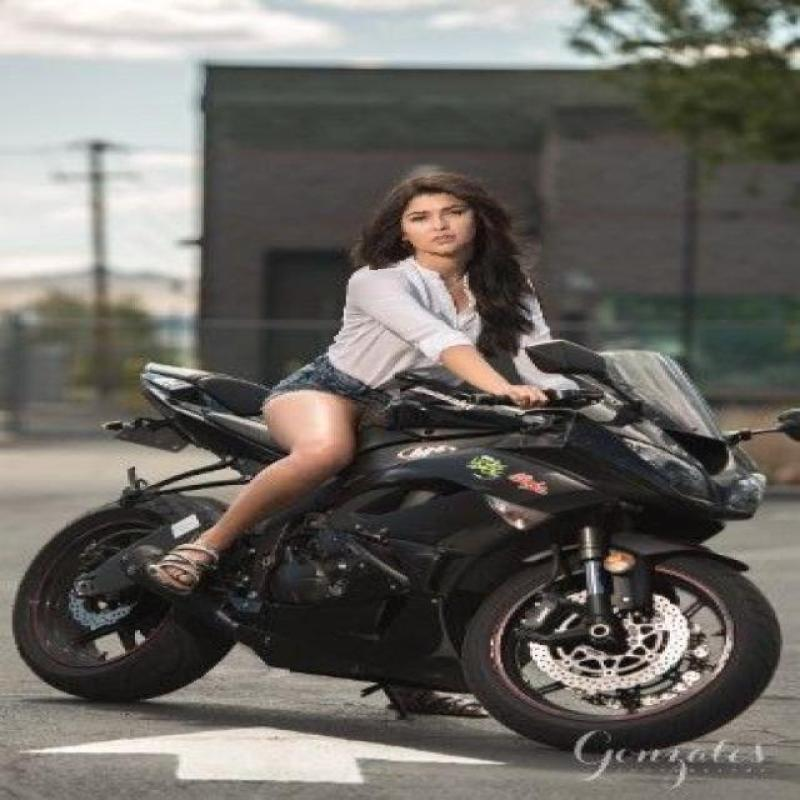nohelmet: (362, 164, 540, 266)
